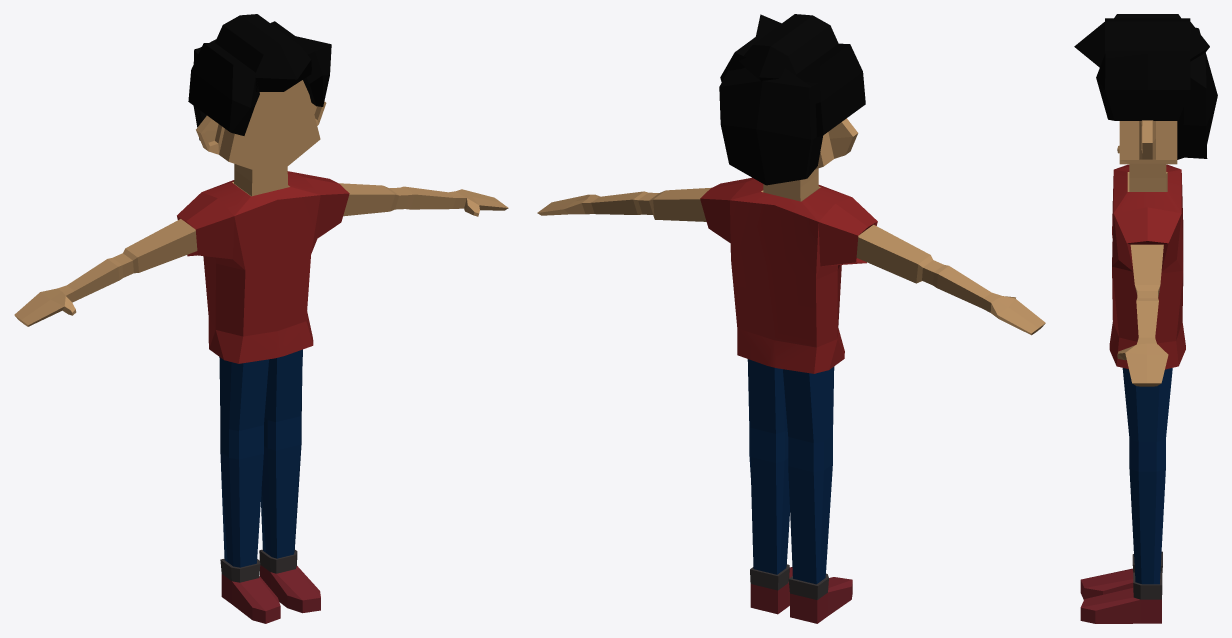
File: BoyClassmate2.fbx
3 views of the same model, side by side, from view 1: azimuth 30°, elevation 25°; view 2: azimuth 150°, elevation 25°; view 3: azimuth 270°, elevation 25° (orthographic). The views are drawn at different scales.
Parts seen in each view (by area): view 1: pCube10; view 2: pCube10; view 3: pCube10.
Boxes of the visible parts, bbox=[...] form: pCube10: bbox=[14, 14, 508, 623]; pCube10: bbox=[537, 14, 1045, 623]; pCube10: bbox=[1074, 14, 1217, 623].
Bounding box in the file's own units: 49.75 × 55.77 × 12.42.
